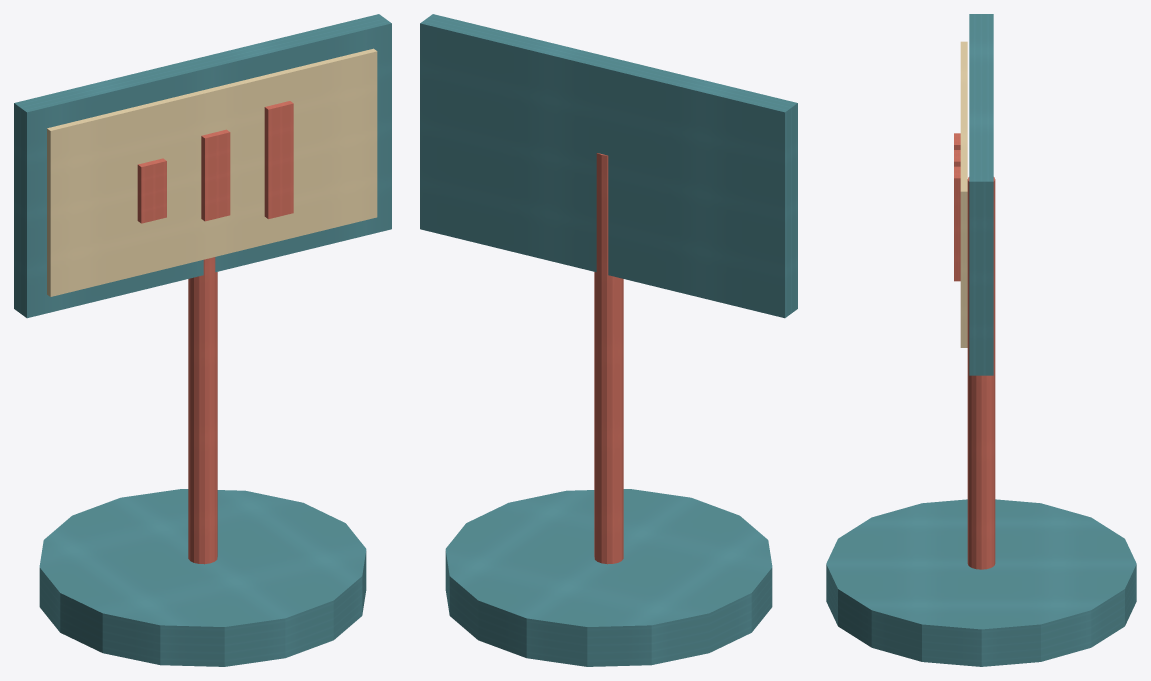
Rendered from atlas100-s072-a11.glb.
3 views of the same model, side by side, from view 1: azimuth 30°, elevation 25°; view 2: azimuth 150°, elevation 25°; view 3: azimuth 270°, elevation 25° (orthographic). The views are drawn at different scales.
Visible parts, largest first — view 1: atlas100-s072-a11:part-003, atlas100-s072-a11:part-000, atlas100-s072-a11:part-002, atlas100-s072-a11:part-001, atlas100-s072-a11:part-006, atlas100-s072-a11:part-005, atlas100-s072-a11:part-004; view 2: atlas100-s072-a11:part-002, atlas100-s072-a11:part-000, atlas100-s072-a11:part-001; view 3: atlas100-s072-a11:part-000, atlas100-s072-a11:part-002, atlas100-s072-a11:part-001, atlas100-s072-a11:part-003, atlas100-s072-a11:part-006.
Part boxes in pixels (bbox=[...]): atlas100-s072-a11:part-003: bbox=[47, 48, 377, 296]; atlas100-s072-a11:part-000: bbox=[39, 489, 366, 666]; atlas100-s072-a11:part-002: bbox=[14, 14, 391, 318]; atlas100-s072-a11:part-001: bbox=[188, 257, 217, 564]; atlas100-s072-a11:part-006: bbox=[264, 101, 293, 219]; atlas100-s072-a11:part-005: bbox=[201, 129, 230, 221]; atlas100-s072-a11:part-004: bbox=[137, 158, 166, 223]; atlas100-s072-a11:part-002: bbox=[420, 14, 797, 318]; atlas100-s072-a11:part-000: bbox=[445, 489, 772, 666]; atlas100-s072-a11:part-001: bbox=[594, 153, 623, 564]; atlas100-s072-a11:part-000: bbox=[826, 499, 1136, 666]; atlas100-s072-a11:part-002: bbox=[969, 14, 993, 375]; atlas100-s072-a11:part-001: bbox=[967, 177, 995, 569]; atlas100-s072-a11:part-003: bbox=[960, 41, 967, 347]; atlas100-s072-a11:part-006: bbox=[954, 166, 960, 281].
Size of the model in its own units: 1.15 by 1.61 by 0.9.
Materials: 3 (3 with a texture image).
